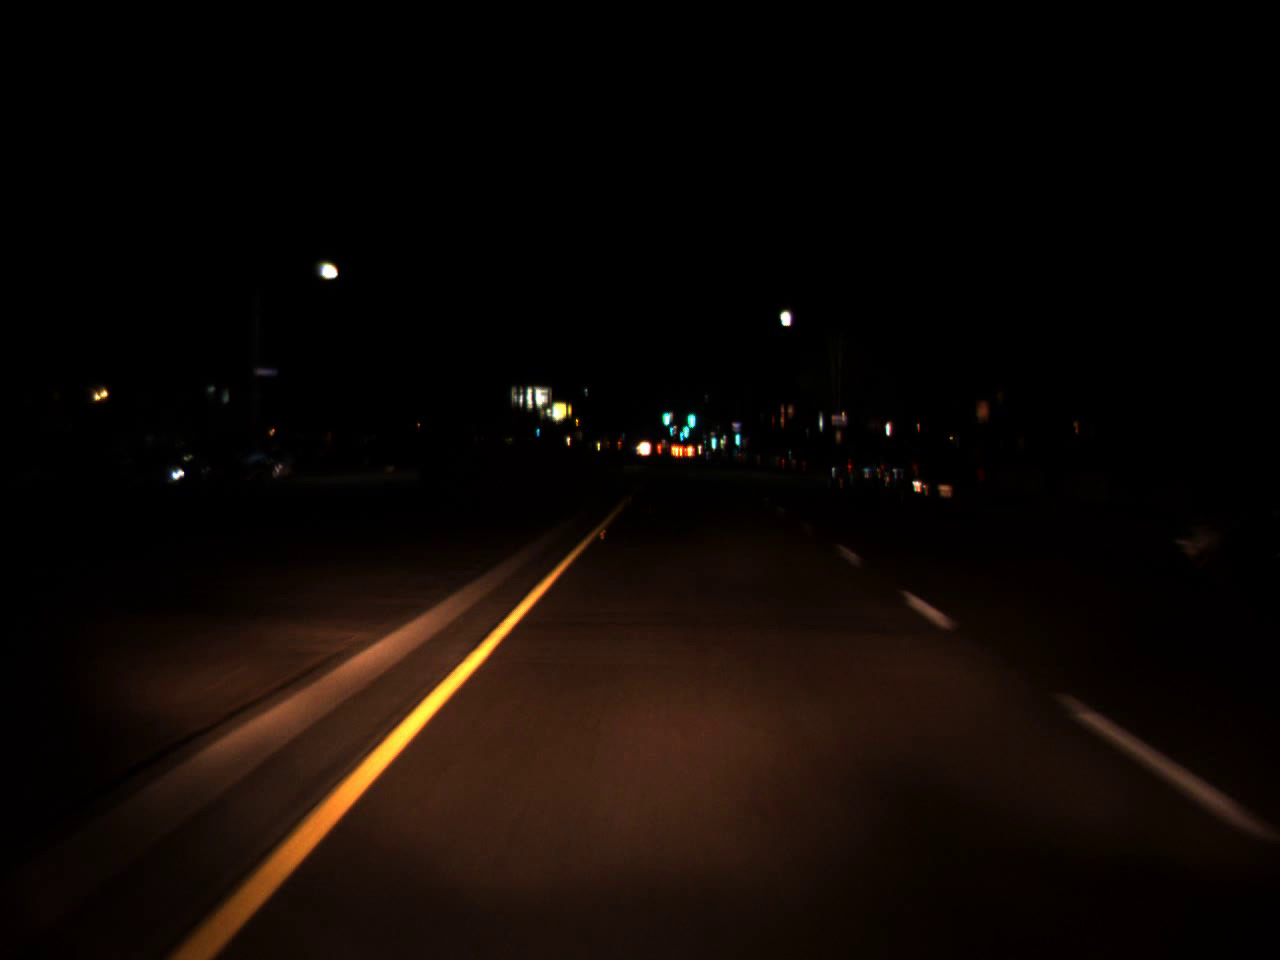go: (661, 395, 671, 431), (684, 400, 696, 430), (681, 412, 690, 442), (733, 419, 740, 450), (710, 425, 717, 452), (677, 419, 684, 444), (667, 419, 674, 437)
